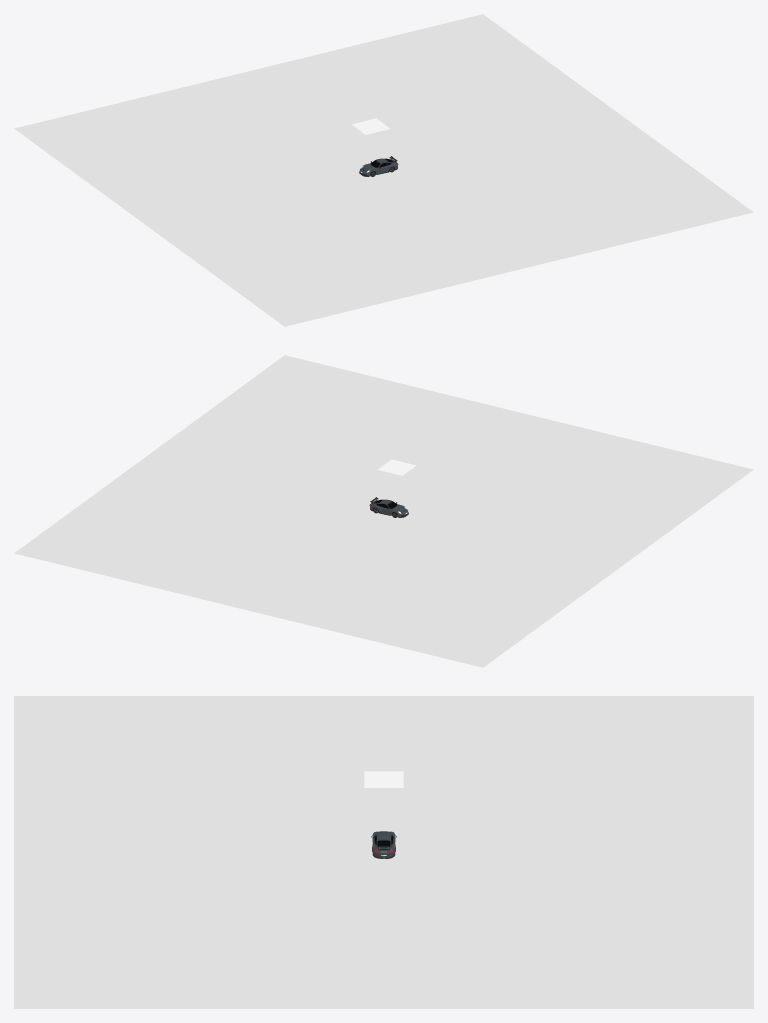
3 renders of one model, top to bottom at view 1: azimuth 30°, elevation 25°; view 2: azimuth 150°, elevation 25°; view 3: azimuth 270°, elevation 25°, orthographic. The views are drawn at different scales.
Visible parts, largest first — view 1: Object_4; view 2: Object_4; view 3: Object_4.
Boxes of the visible parts, x1,y1,x2,y2 form: Object_4: (14,14,753,326); Object_4: (14,355,753,667); Object_4: (14,696,753,1008).
Bounding box in the file's own units: 96.26 × 9.21 × 96.26.
1 material, 1 textured.
